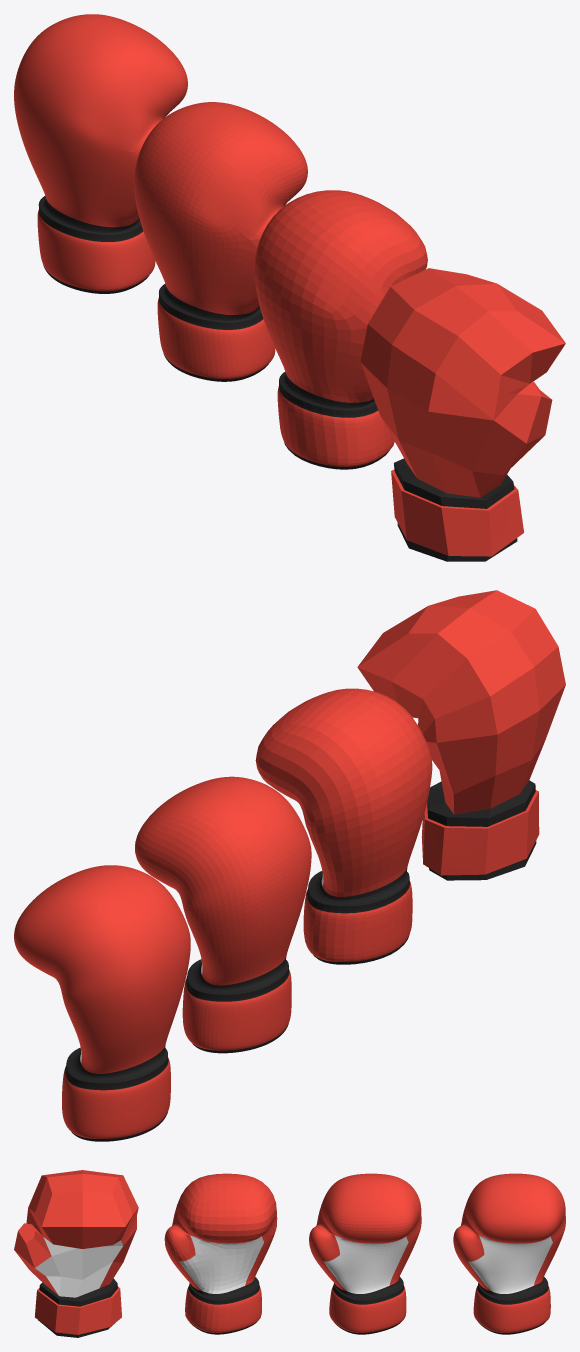
File: boxing_glove.glb
The picture shows the model from 3 angles, top to bottom: view 1: azimuth 30°, elevation 25°; view 2: azimuth 150°, elevation 25°; view 3: azimuth 270°, elevation 25°; orthographic projection. The views are drawn at different scales.
Parts seen in each view (by area): view 1: Boxing Glove.001, Boxing Glove.003, Boxing Glove.004, Boxing Glove.002; view 2: Boxing Glove.001, Boxing Glove.004, Boxing Glove.003, Boxing Glove.002; view 3: Boxing Glove.001, Boxing Glove.004, Boxing Glove.003, Boxing Glove.002.
Part boxes in pixels (x1,y1,x2,y2): Boxing Glove.001: [360, 268, 565, 561]; Boxing Glove.003: [134, 102, 307, 381]; Boxing Glove.004: [14, 14, 187, 293]; Boxing Glove.002: [254, 190, 427, 469]; Boxing Glove.001: [357, 590, 565, 880]; Boxing Glove.004: [14, 865, 190, 1141]; Boxing Glove.003: [135, 776, 311, 1053]; Boxing Glove.002: [255, 688, 432, 964]; Boxing Glove.001: [14, 1170, 138, 1337]; Boxing Glove.004: [453, 1173, 565, 1334]; Boxing Glove.003: [309, 1173, 421, 1334]; Boxing Glove.002: [164, 1173, 277, 1334].
Size of the model in its own units: 673 by 1037 by 3441.
Materials: 1 (1 with a texture image).
